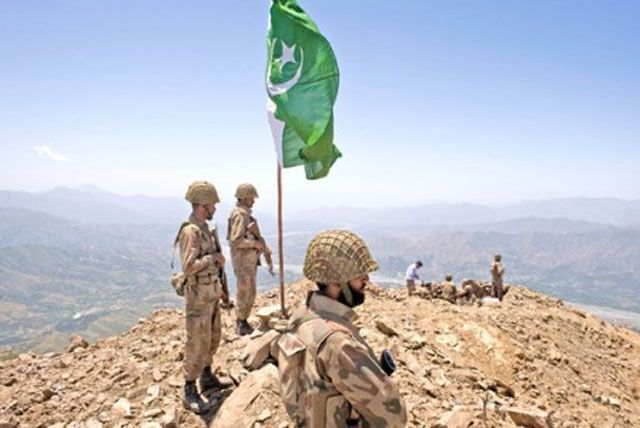uniform: (274, 207, 441, 421), (162, 170, 230, 405), (221, 175, 284, 340), (492, 247, 512, 300), (444, 258, 459, 310)
